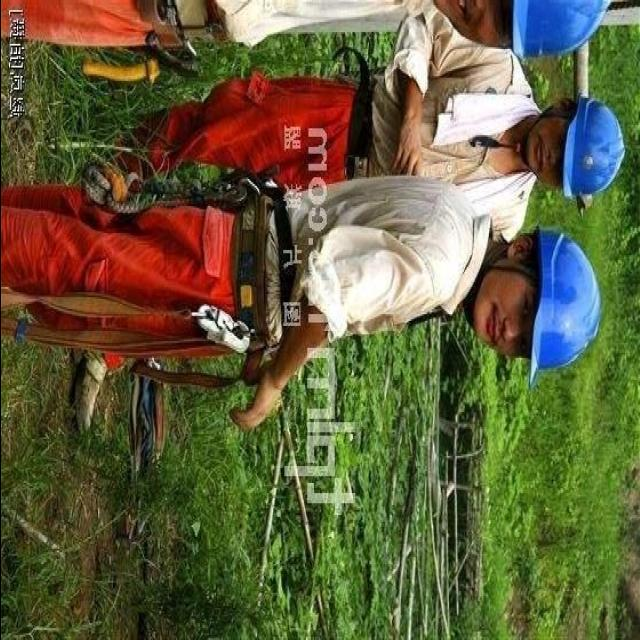helmet: (522, 216, 597, 394), (503, 0, 610, 76), (560, 90, 630, 204)
